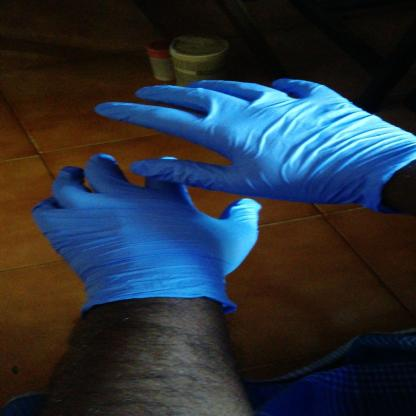gloved_hand: (90, 74, 414, 218), (24, 152, 266, 327)
